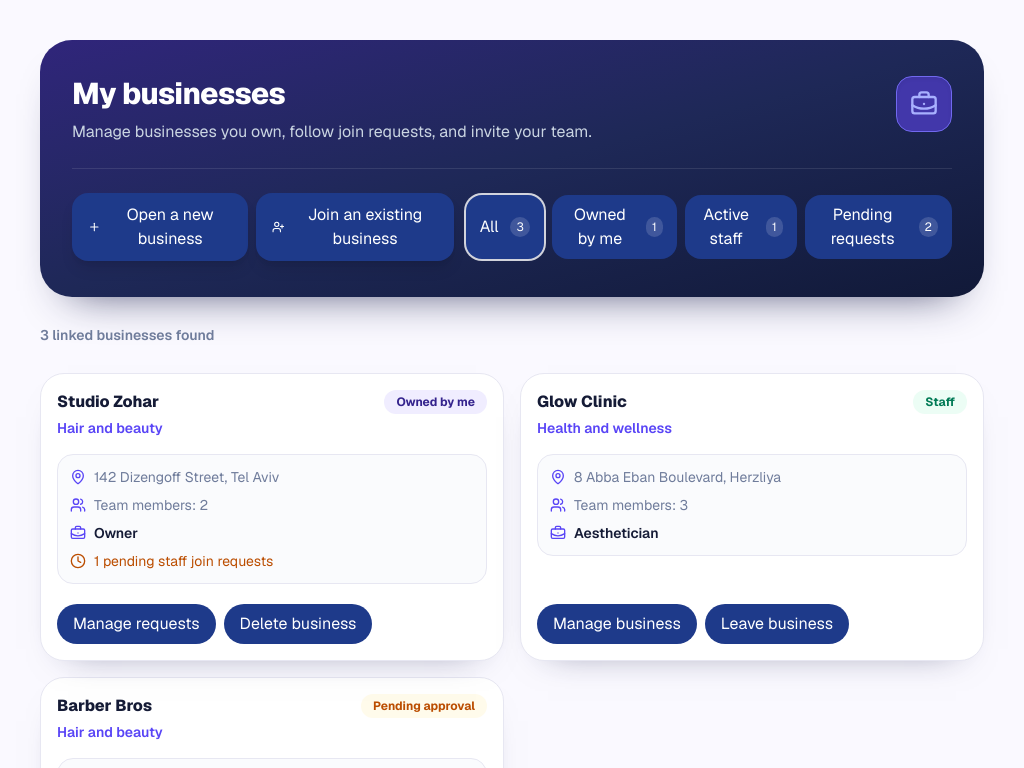
Test: my businesses page › deletes the business after confirming, and refreshes the list
The width and height of the screenshot is (1024, 768).
Click the button with aria-label "Delete business — Studio Zohar": (298, 624) [224,604,372,644]
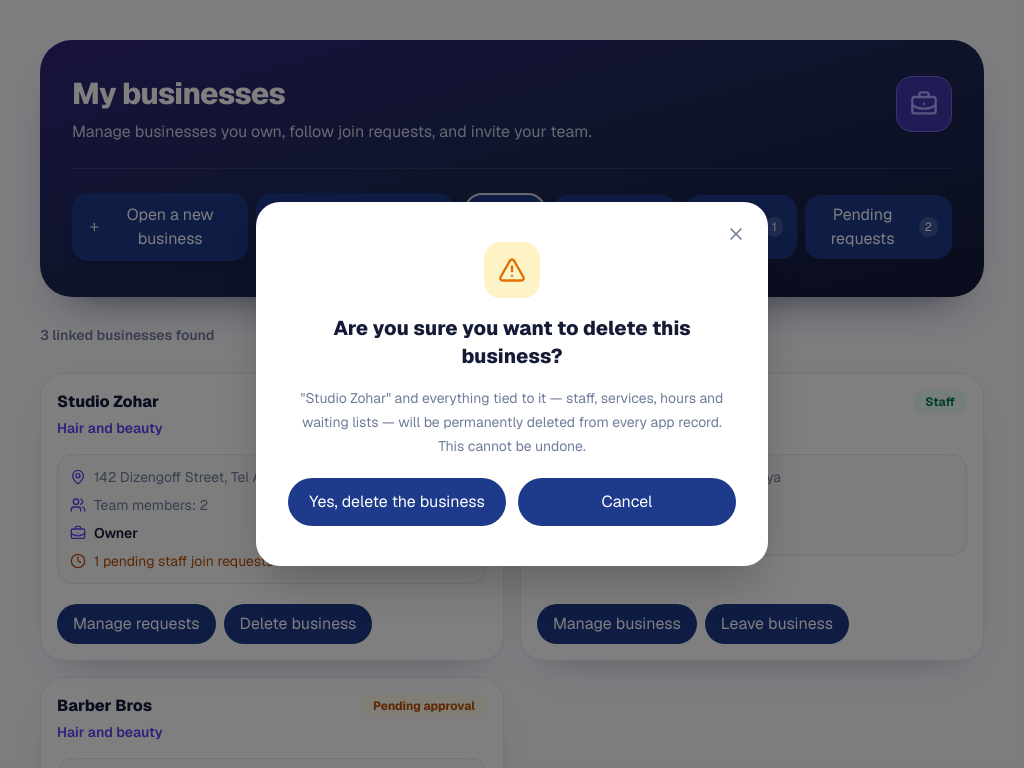
Expected: the heading "Are you sure you want to delete this business?" is shown, [333,315,691,369]
Click the button "Yes, delete the business": (397, 502) [288,478,506,526]
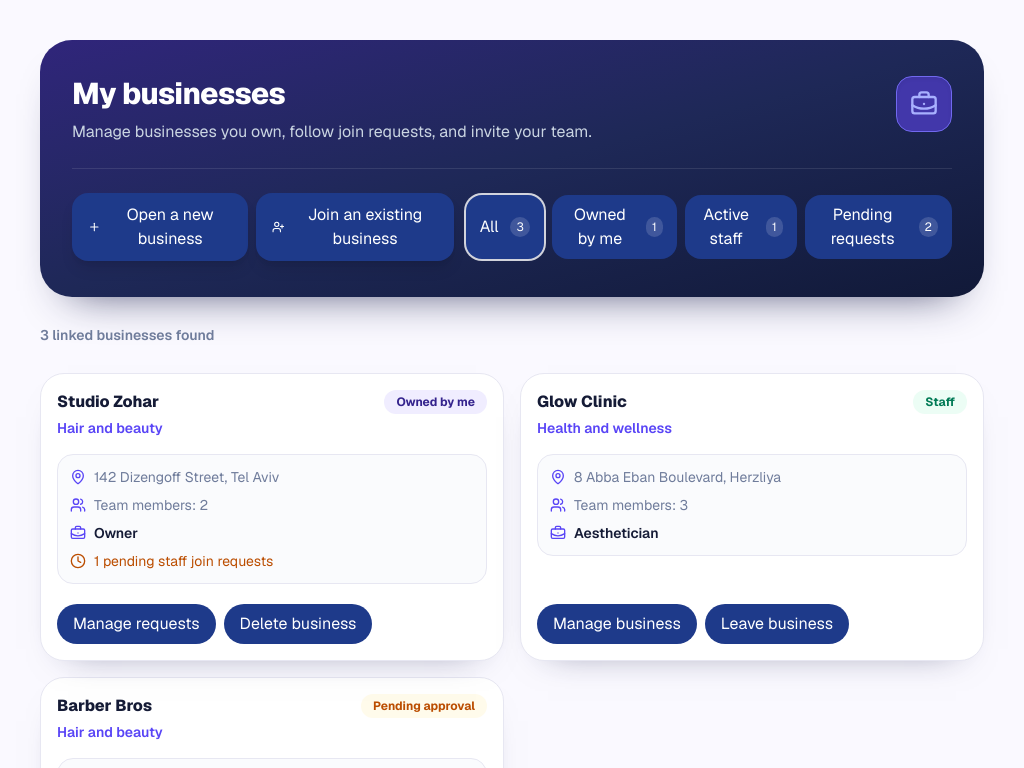
Expected: the heading "Are you sure you want to delete this business?" is gone
